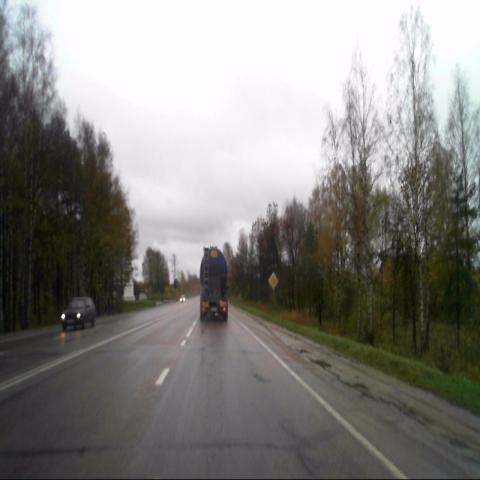2_1: (269, 271, 278, 288)
